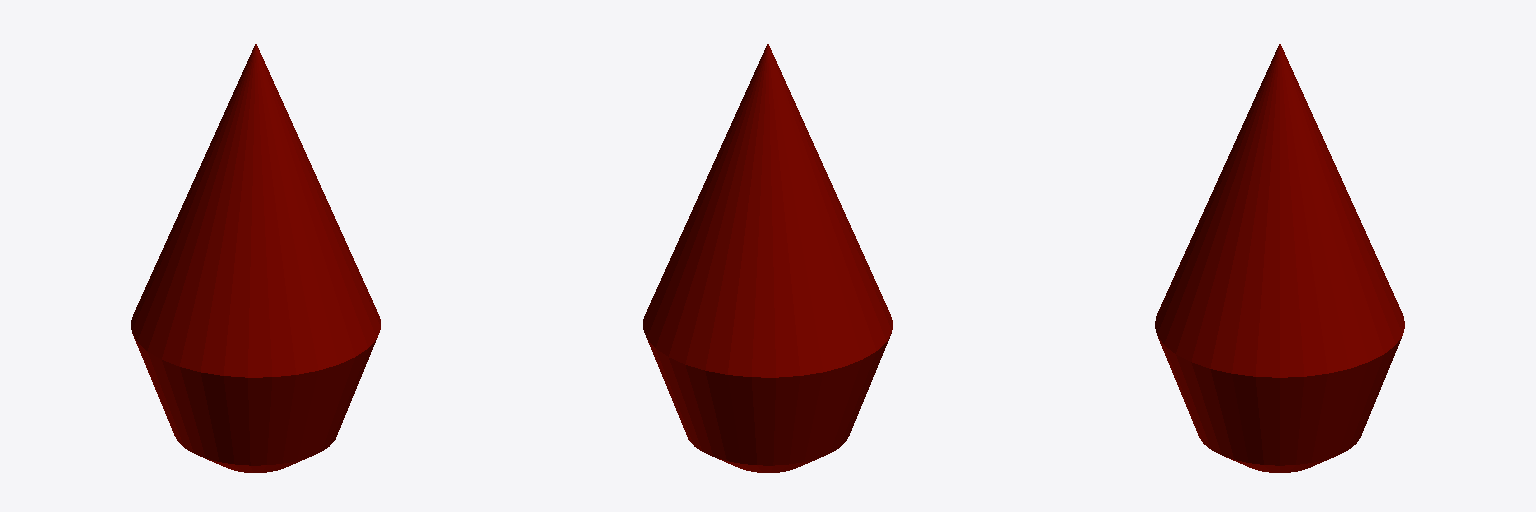
Rendered from Fireball.obj.
3 views of the same model, side by side, from view 1: azimuth 30°, elevation 25°; view 2: azimuth 150°, elevation 25°; view 3: azimuth 270°, elevation 25° (orthographic).
Parts seen in each view (by area): view 1: Cone; view 2: Cone; view 3: Cone.
Part boxes in pixels (x1,y1,x2,y2): Cone: (131, 44, 380, 472); Cone: (643, 44, 892, 472); Cone: (1155, 44, 1404, 472).
Bounding box in the file's own units: 1.53 × 2.86 × 1.53.